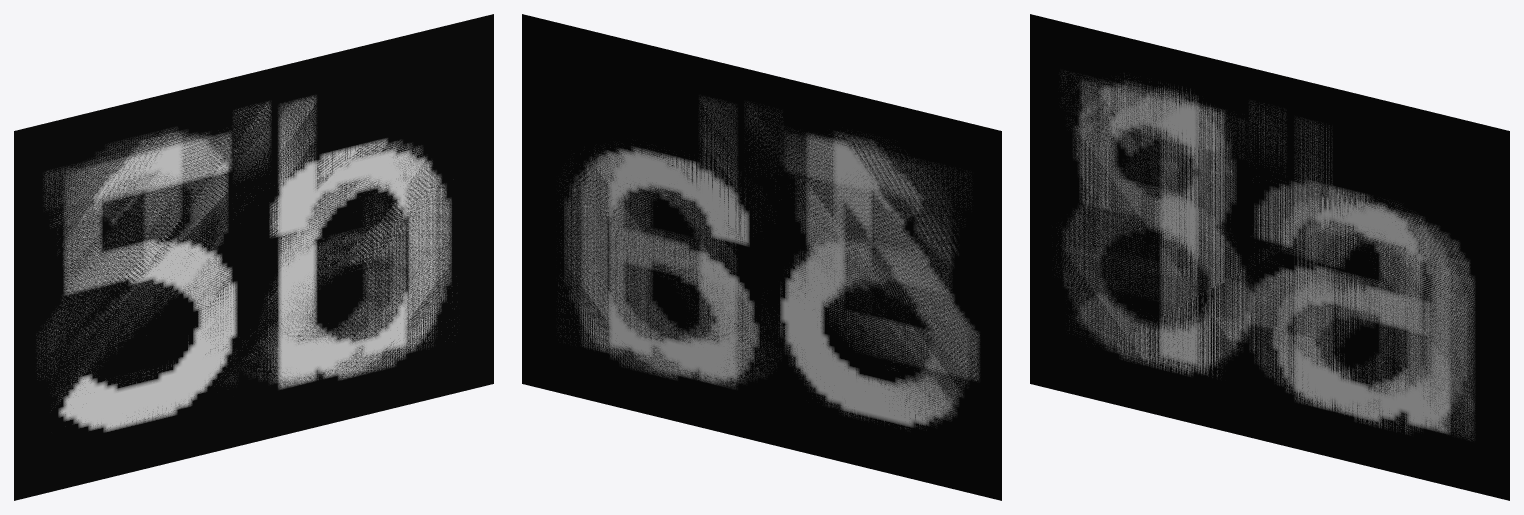
File: regalbeschriftungen.fbx
The picture shows the model from 3 angles, left to right: view 1: azimuth 30°, elevation 25°; view 2: azimuth 150°, elevation 25°; view 3: azimuth 330°, elevation 25°; orthographic projection.
Visible parts, largest first — view 1: text_5b, text_1a, text_2a, text_8a, text_4a, text_7b; view 2: text_8a, text_5b, text_1a, text_4a, text_7b, text_7a, text_2a; view 3: text_1a, text_8a, text_5b, text_4a, text_7b, text_2a, text_7a.
Part boxes in pixels (<box>): text_5b: <box>23,17,484,498</box>; text_1a: <box>23,47,484,464</box>; text_2a: <box>23,16,484,485</box>; text_8a: <box>14,14,493,500</box>; text_4a: <box>14,14,493,498</box>; text_7b: <box>23,17,480,415</box>; text_8a: <box>522,14,1001,500</box>; text_5b: <box>531,17,992,497</box>; text_1a: <box>531,17,992,463</box>; text_4a: <box>522,14,1001,498</box>; text_7b: <box>531,16,992,418</box>; text_7a: <box>531,17,991,492</box>; text_2a: <box>531,16,992,419</box>; text_1a: <box>1039,17,1500,465</box>; text_8a: <box>1030,14,1509,500</box>; text_5b: <box>1039,16,1500,498</box>; text_4a: <box>1030,14,1509,499</box>; text_7b: <box>1039,17,1500,367</box>; text_2a: <box>1039,16,1500,432</box>; text_7a: <box>1039,19,1500,496</box>.
Bounding box in the file's own units: 37.58 × 27.67 × 0.
